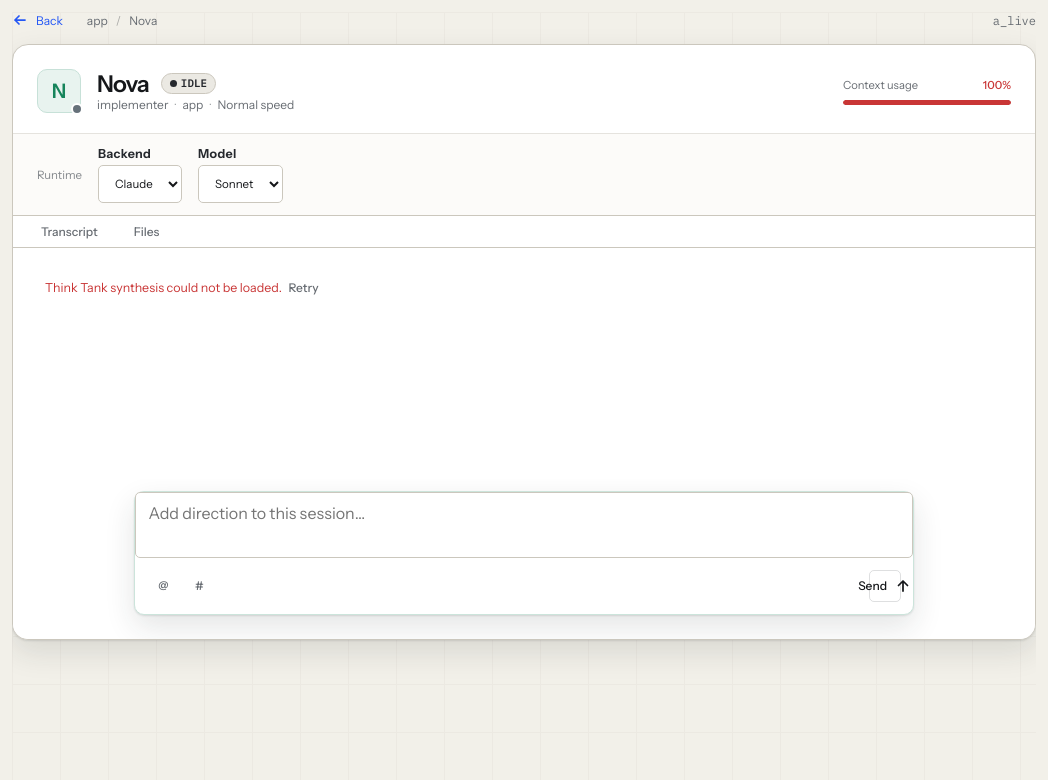
Test: ChatPanel runtime picker › restores the current runtime and explains a rejected switch
The width and height of the screenshot is (1048, 780).
Select "Codex" in the dropdown labelled "Backend": (140, 184) [98,165,182,203]
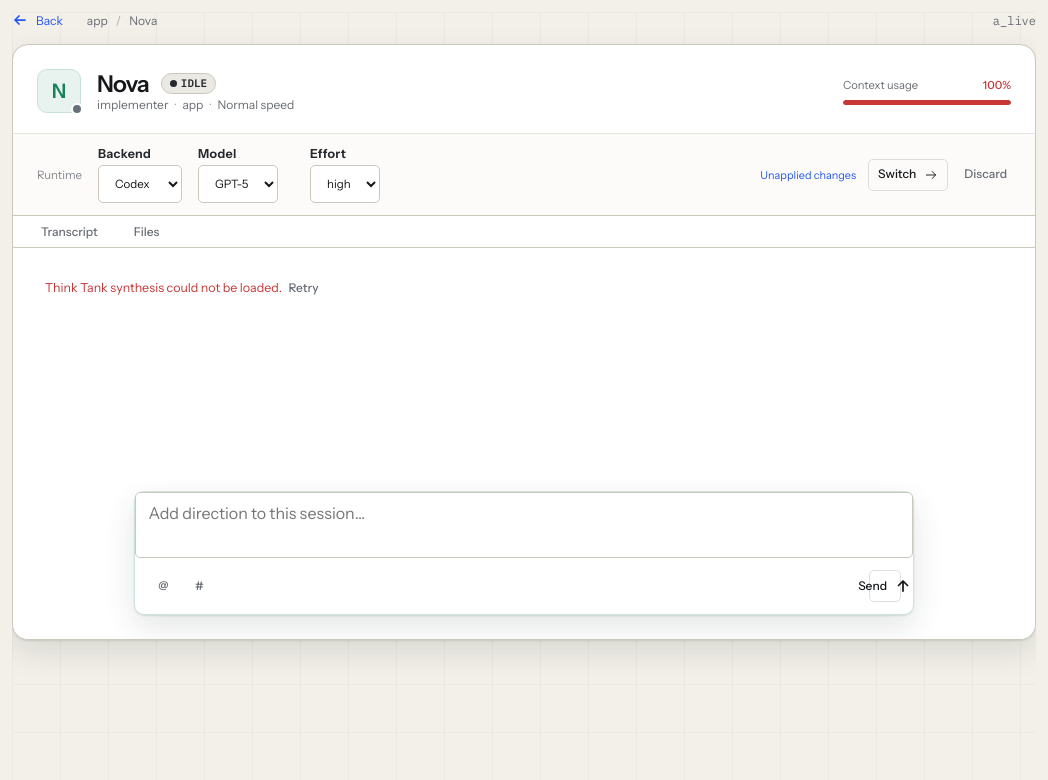
Click the button "Switch": (908, 174) [868,158,948,190]
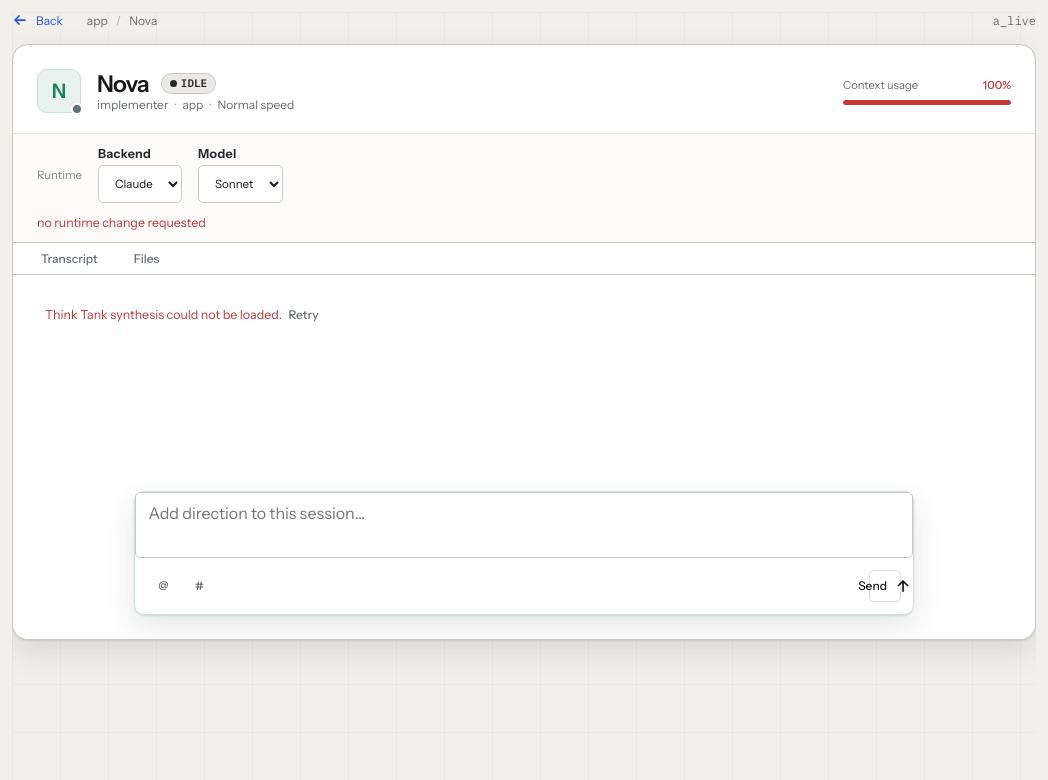
Now the message "no runtime change requested" is shown, box [37,215,206,230]
Now the button "Switch" is gone
